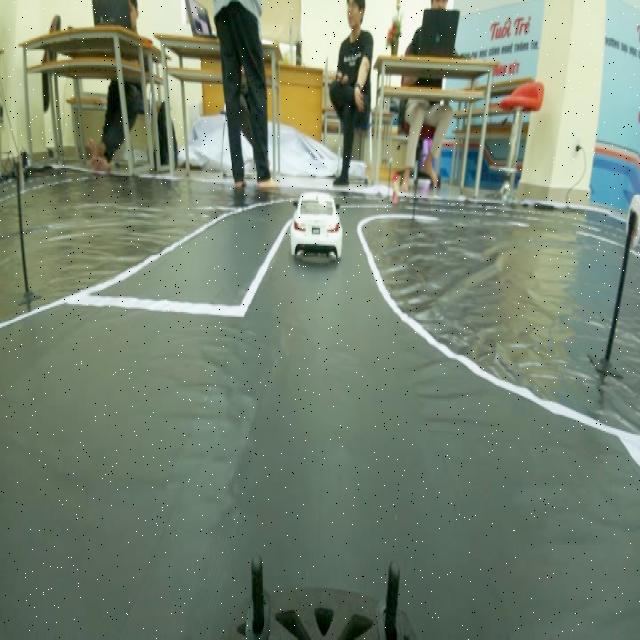car: (282, 189, 350, 262)
